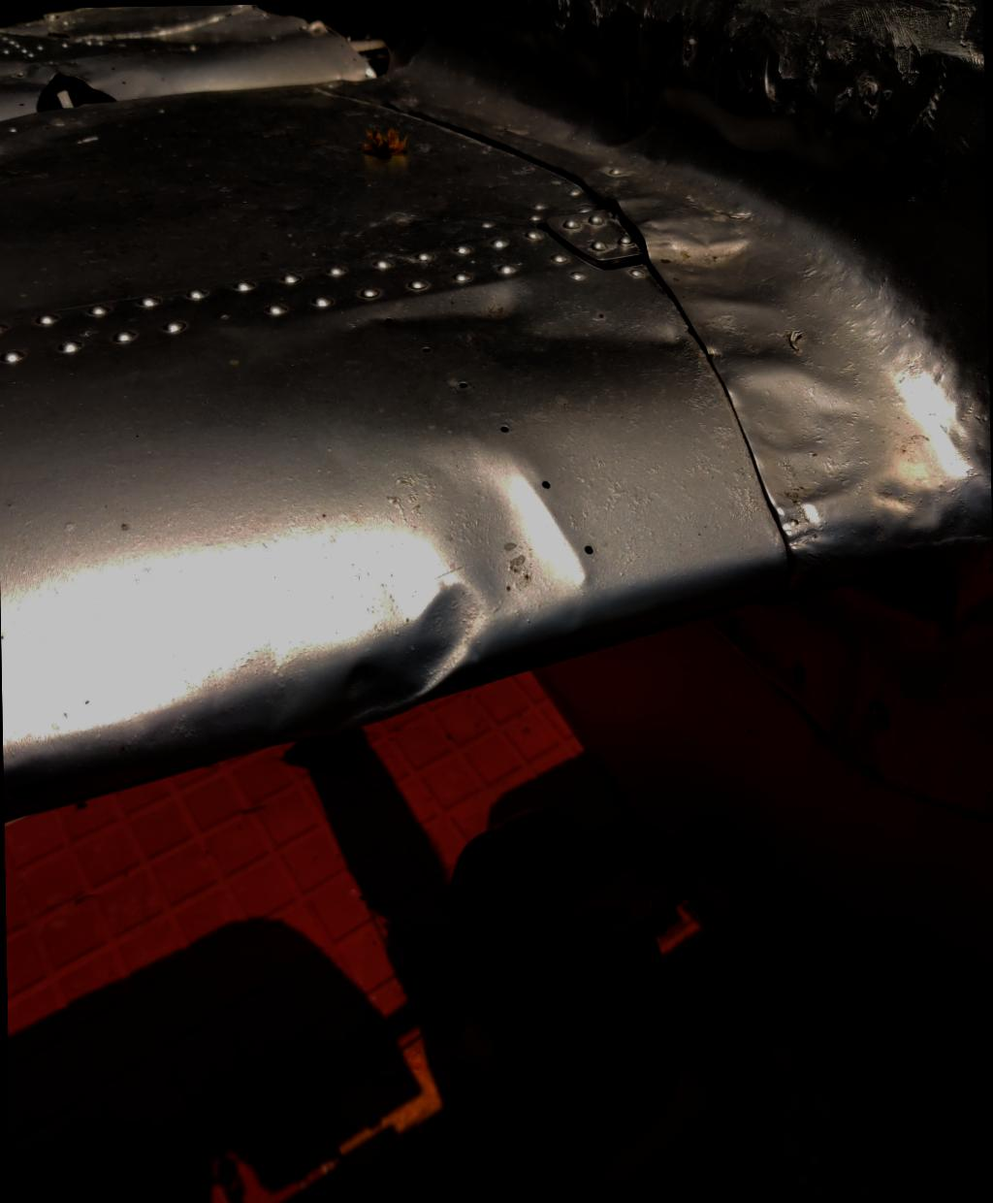dent: (242, 534, 500, 776), (352, 259, 626, 399)
